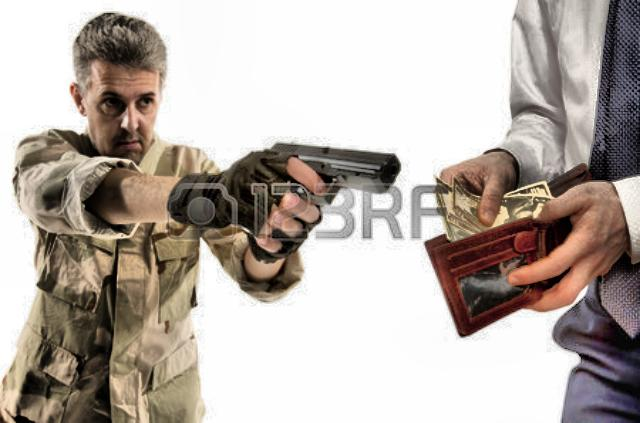pistol: (246, 137, 398, 249)
